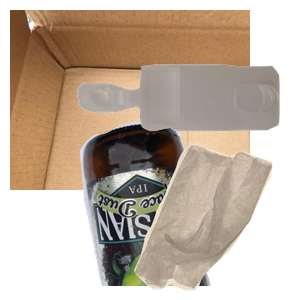cardboard: (10, 10, 250, 190)
glass: (78, 120, 281, 300)
plastic: (75, 62, 300, 186)
trash: (132, 140, 300, 300)
